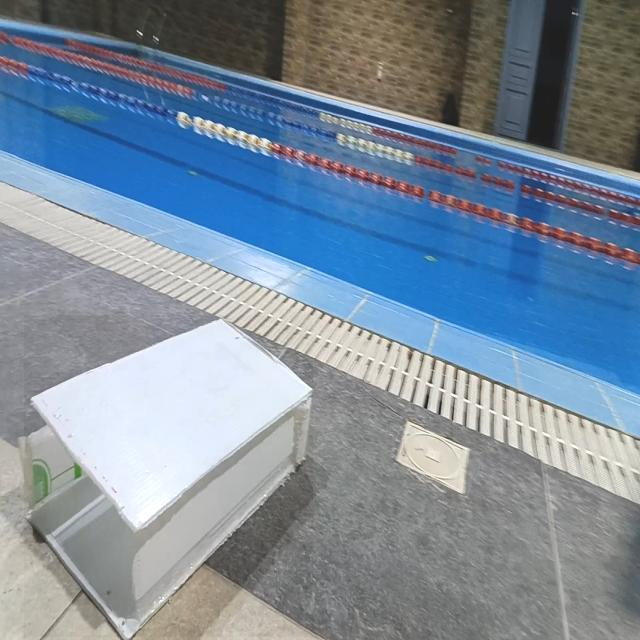Cuboid: (24, 315, 313, 637)
